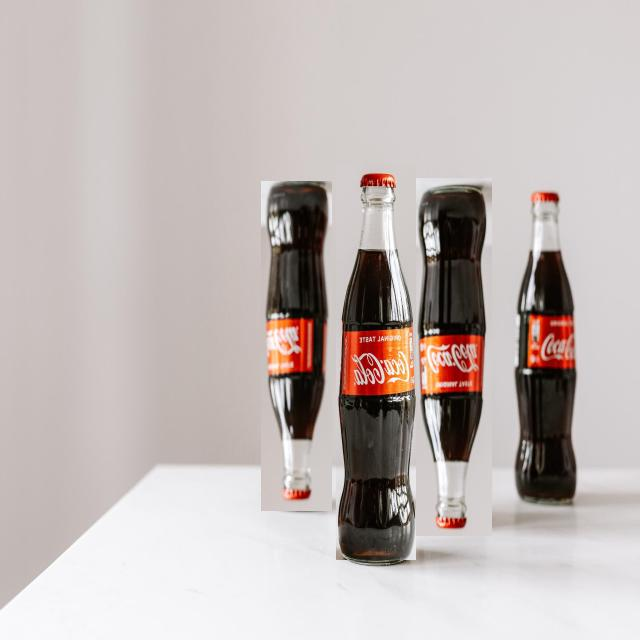coca-cola: (336, 165, 416, 560), (417, 178, 492, 536), (509, 184, 583, 506), (261, 181, 332, 511)
